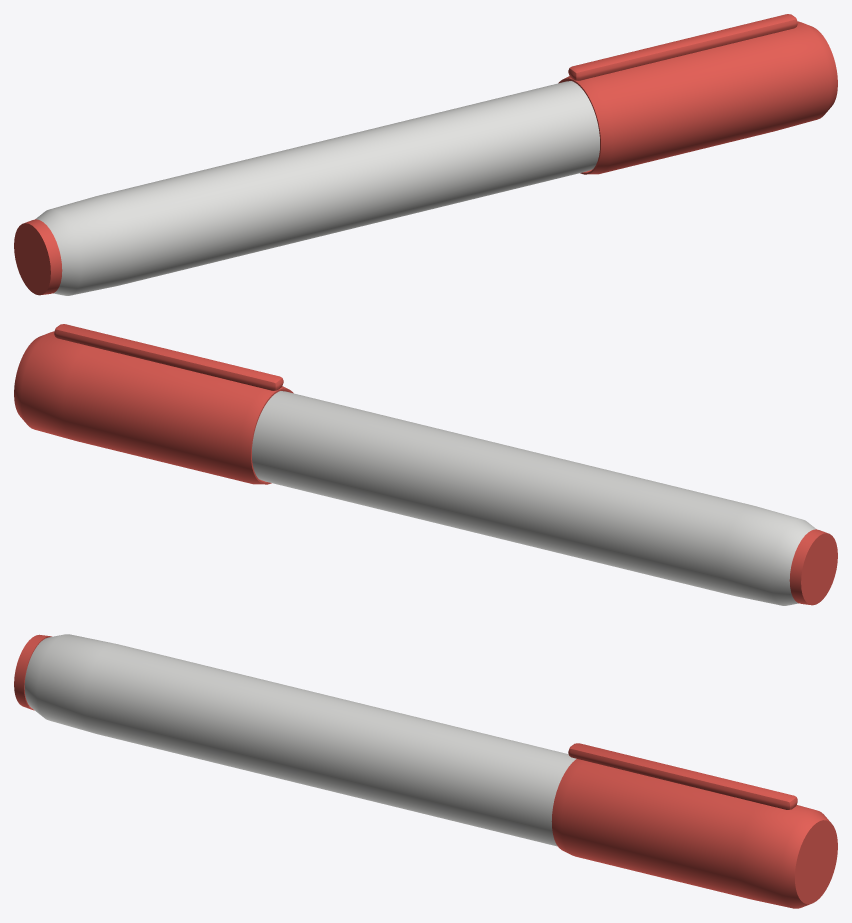
The model's file is marker.glb.
3 views of the same model, one above another, from view 1: azimuth 30°, elevation 25°; view 2: azimuth 150°, elevation 25°; view 3: azimuth 330°, elevation 25° (orthographic).
Visible parts, largest first — view 1: Marker; view 2: Marker; view 3: Marker.
Part boxes in pixels (x1,y1,x2,y2): Marker: (14,14,837,295); Marker: (14,324,837,605); Marker: (14,634,837,908).
Bounding box in the file's own units: 1.47 × 0.189 × 0.168.
